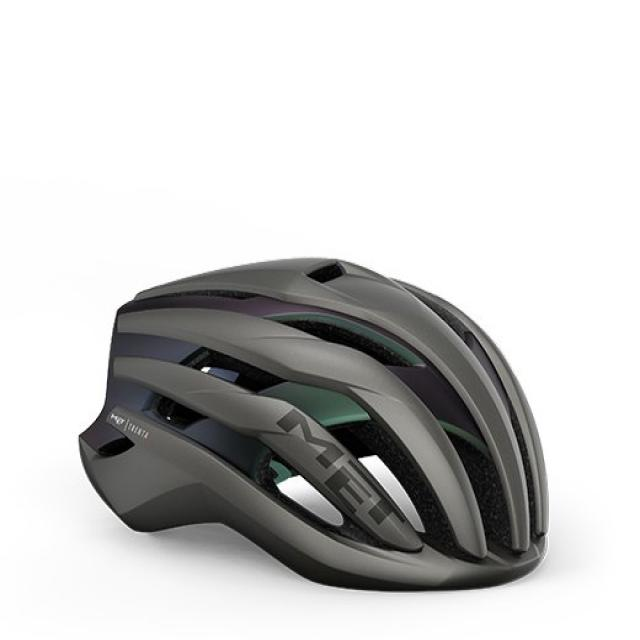Helmet: (80, 258, 548, 588)
